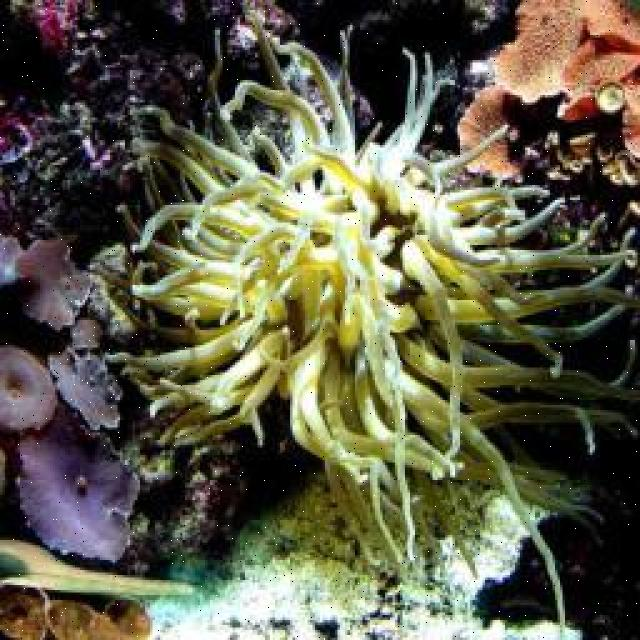reefs: (107, 32, 638, 635), (1, 317, 140, 559), (461, 0, 638, 185), (0, 541, 193, 598), (0, 232, 97, 329), (0, 586, 153, 638)
